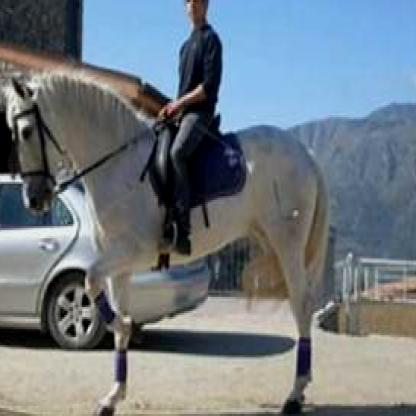horse: (3, 73, 334, 414)
